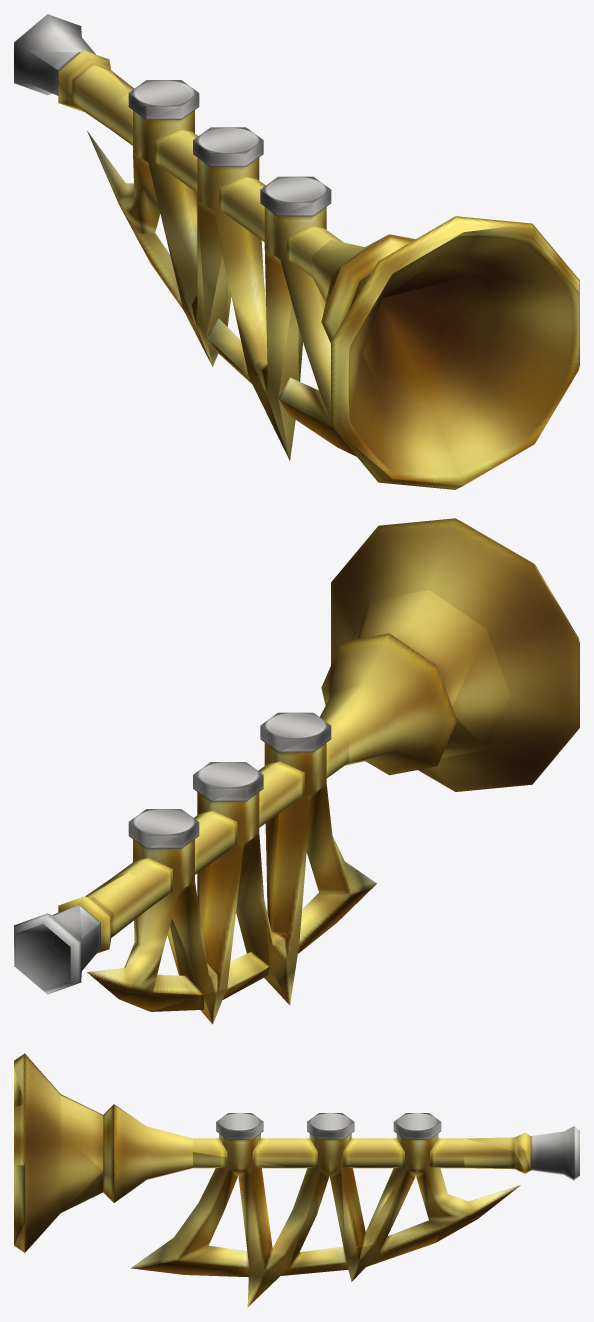
The model's file is spikedhorn.FBX.
The picture shows the model from 3 angles, top to bottom: view 1: azimuth 30°, elevation 25°; view 2: azimuth 150°, elevation 25°; view 3: azimuth 270°, elevation 25°; orthographic projection. The views are drawn at different scales.
Visible parts, largest first — view 1: Object001; view 2: Object001; view 3: Object001.
Part boxes in pixels (left/top/right/bottom): Object001: left=14, top=14, right=579, bottom=489; Object001: left=14, top=518, right=579, bottom=1024; Object001: left=14, top=1053, right=579, bottom=1306.
Bounding box in the file's own units: 20.48 × 28.79 × 59.9.
Materials: 1 (1 with a texture image).
